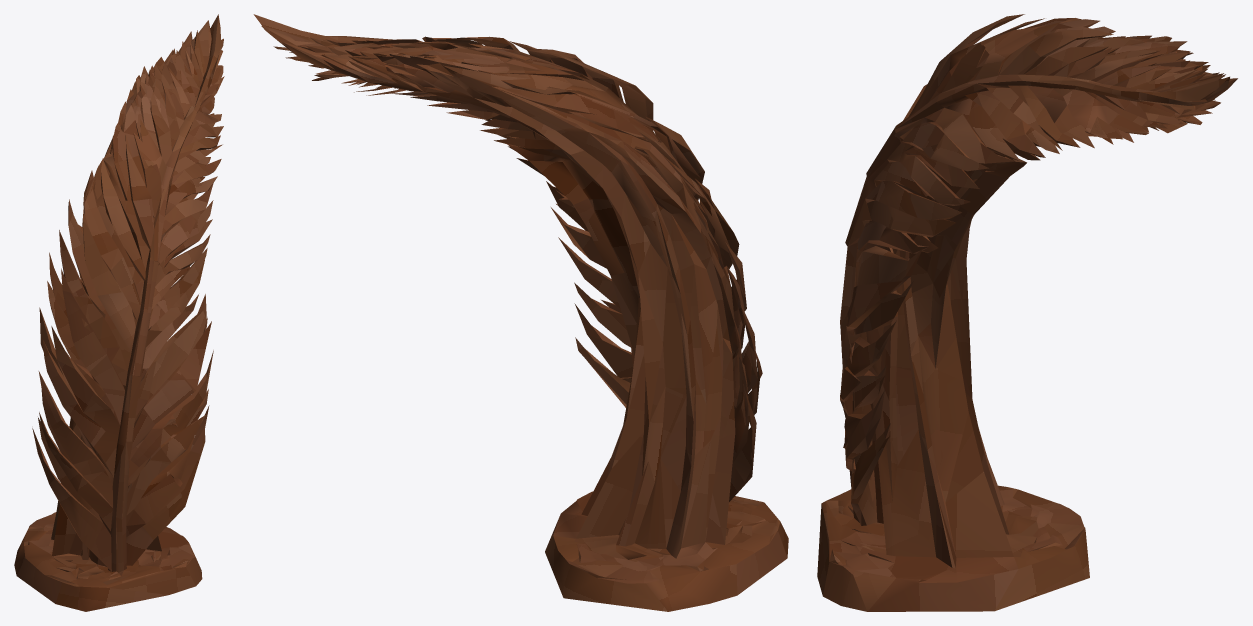
The model's file is art3.glb.
3 renders of one model, left to right at view 1: azimuth 30°, elevation 25°; view 2: azimuth 150°, elevation 25°; view 3: azimuth 270°, elevation 25°, orthographic. The views are drawn at different scales.
Bounding box in the file's own units: 1.31 × 1.9 × 1.14.
1 material, 1 textured.
